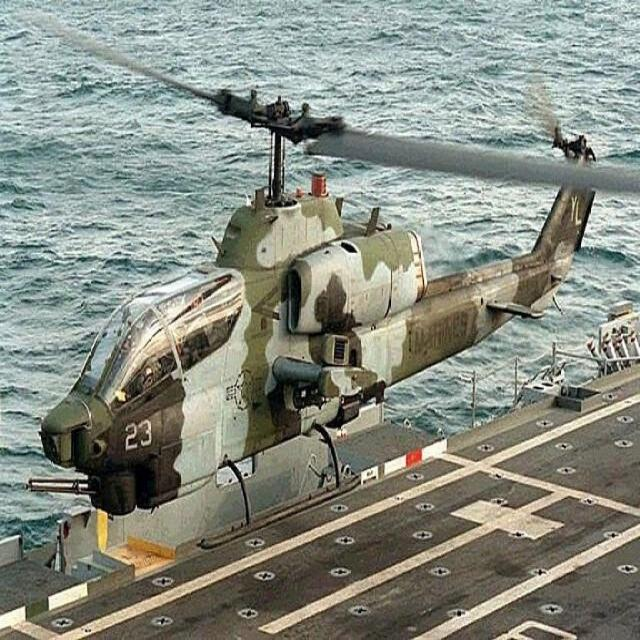MIL_HELO: (21, 5, 631, 539)
